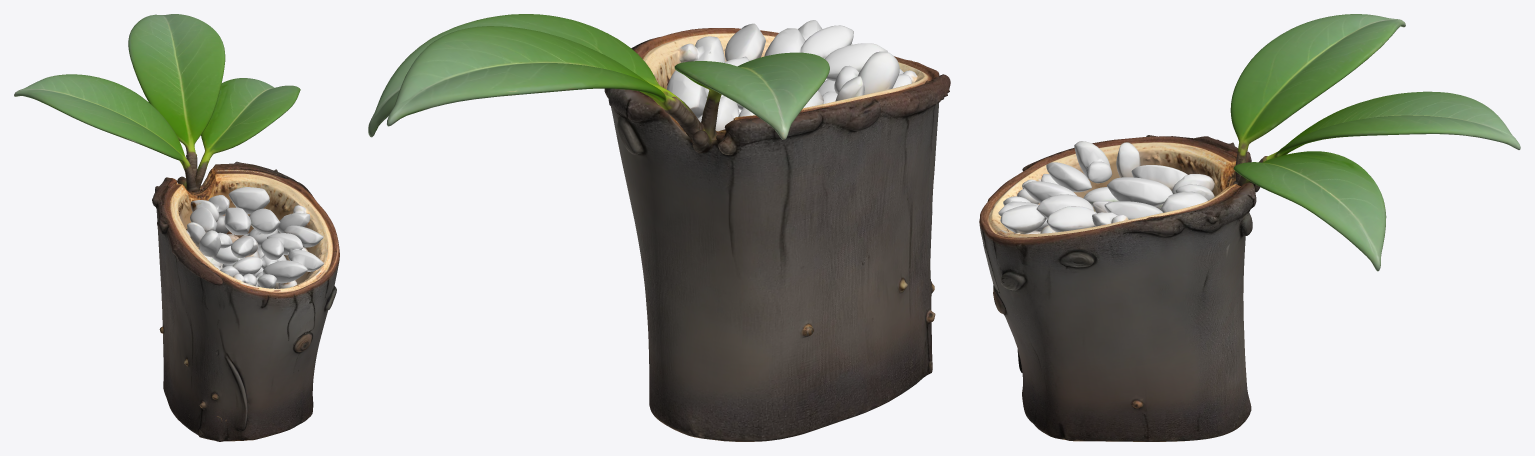
The model's file is longnaoxiang.glb.
The picture shows the model from 3 angles, left to right: view 1: azimuth 30°, elevation 25°; view 2: azimuth 150°, elevation 25°; view 3: azimuth 270°, elevation 25°; orthographic projection. The views are drawn at different scales.
Parts seen in each view (by area): view 1: node_0; view 2: node_0; view 3: node_0.
Boxes of the visible parts, <box> form: node_0: <box>14,14,339,441</box>; node_0: <box>368,14,950,441</box>; node_0: <box>979,14,1520,441</box>.
Size of the model in its own units: 0.6936 by 0.6847 by 0.9939.
1 material, 1 textured.
